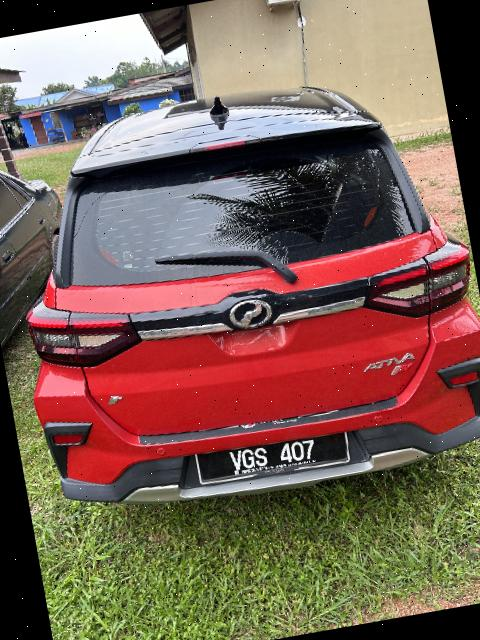License_Plate: (197, 430, 354, 489)
car: (1, 42, 480, 542)
